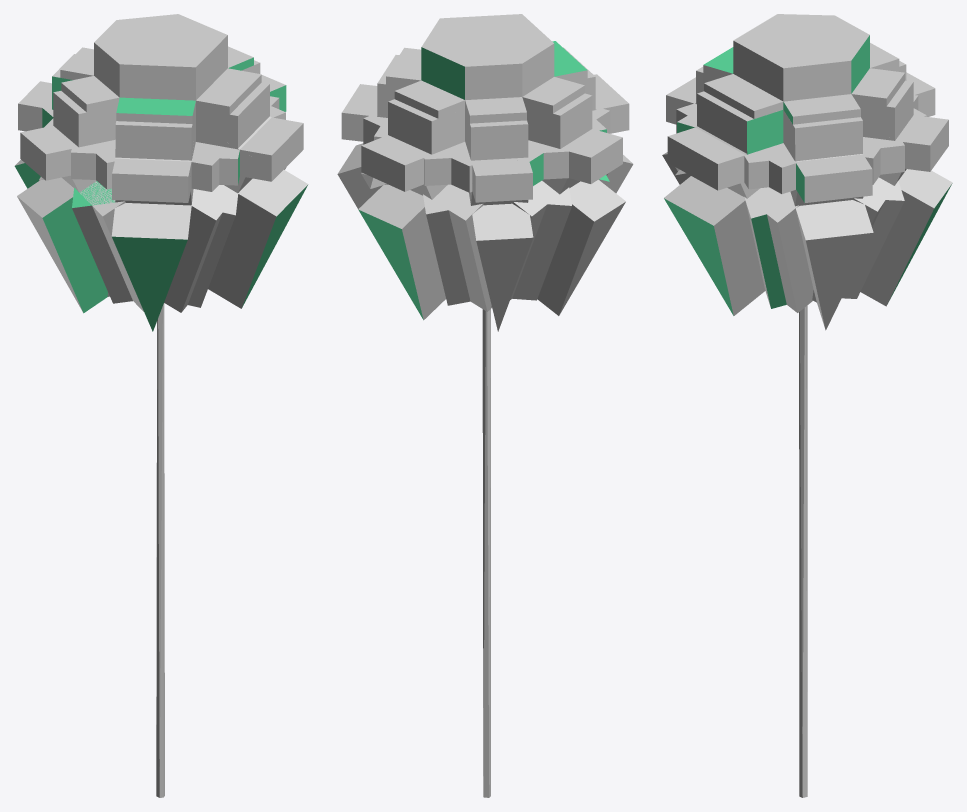
The model's file is floaty03.fbx.
3 views of the same model, side by side, from view 1: azimuth 30°, elevation 25°; view 2: azimuth 150°, elevation 25°; view 3: azimuth 270°, elevation 25° (orthographic).
Parts seen in each view (by area): view 1: Cone, Cylinder.001; view 2: Cone, Cylinder.001; view 3: Cone, Cylinder.001.
Boxes of the visible parts, x1,y1,x2,y2 form: Cone: [14, 14, 308, 331]; Cylinder.001: [156, 303, 164, 797]; Cone: [337, 14, 633, 331]; Cylinder.001: [482, 309, 490, 797]; Cone: [662, 14, 952, 330]; Cylinder.001: [799, 305, 807, 797].
Bounding box in the file's own units: 923 × 2576 × 898.
